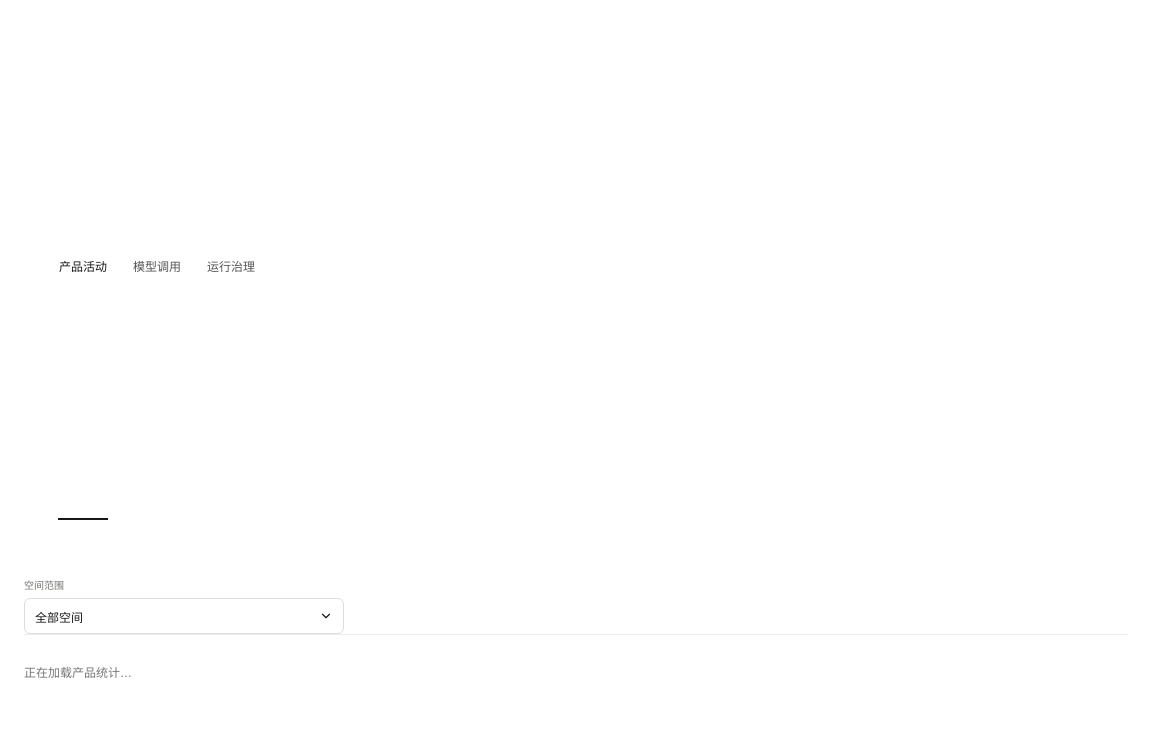
Test case: AnalyticsPage › opens the Runtime governance view through the typed preload API
The image size is (1152, 732).
Click the tab "运行治理" at (231, 266), box [206,12,256,521]
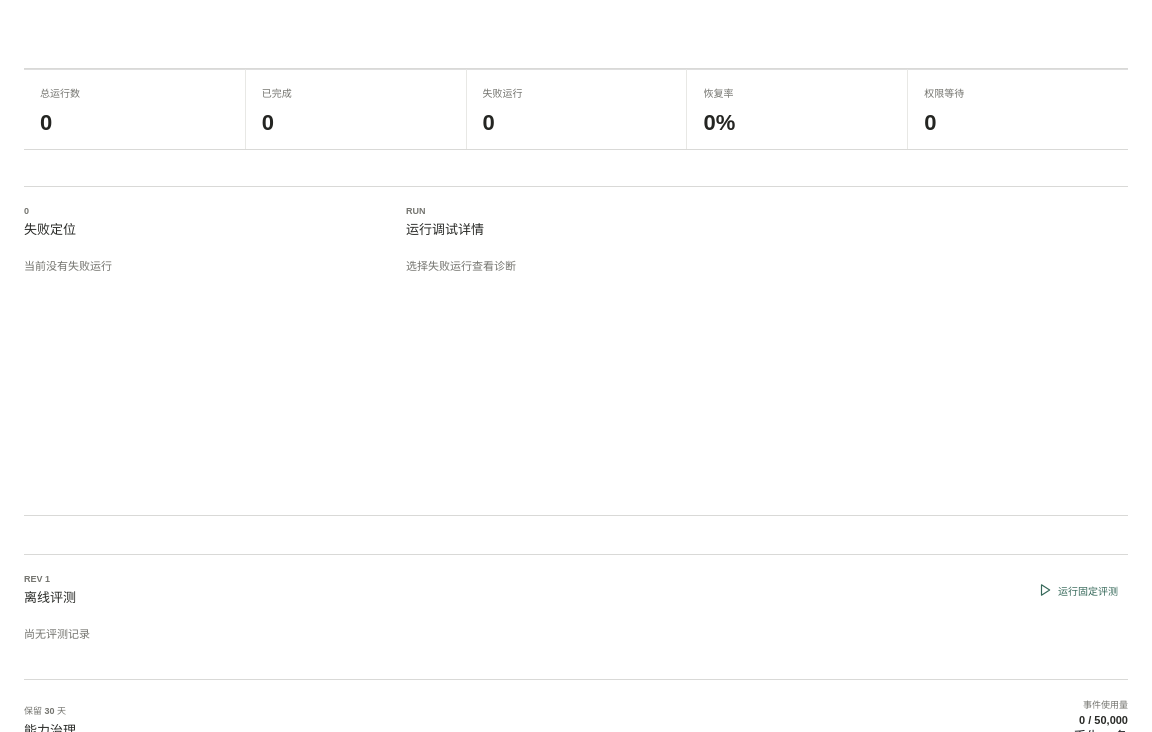
Result: the element named "运行治理总览" is shown at [24,68,1128,150]
